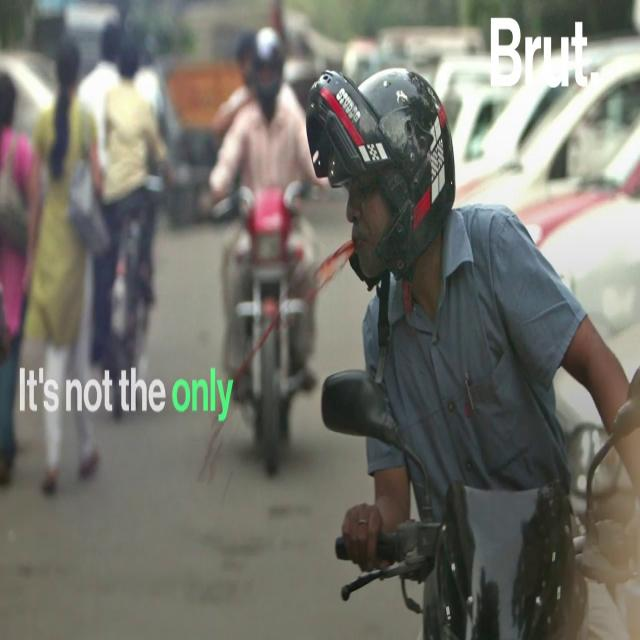spit: (195, 160, 408, 505)
